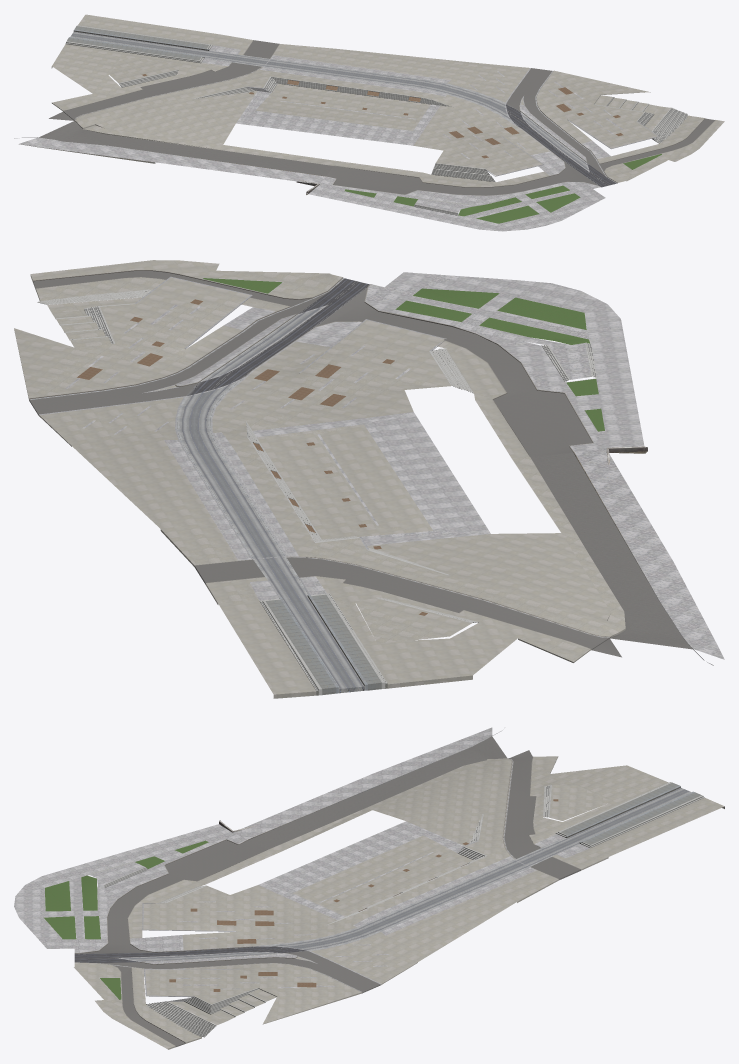
Rendered from teleportZoneSiam.fbx.
3 renders of one model, top to bottom at view 1: azimuth 30°, elevation 25°; view 2: azimuth 150°, elevation 25°; view 3: azimuth 270°, elevation 25°, orthographic. The views are drawn at different scales.
Parts seen in each view (by area): view 1: terrain_bas_Siam; view 2: terrain_bas_Siam; view 3: terrain_bas_Siam.
Part boxes in pixels (<box>): terrain_bas_Siam: <box>14,14,724,231</box>; terrain_bas_Siam: <box>14,260,724,698</box>; terrain_bas_Siam: <box>14,727,724,1049</box>.
Bounding box in the file's own units: 21901 × 904 × 21167.
12 materials, 12 textured.
